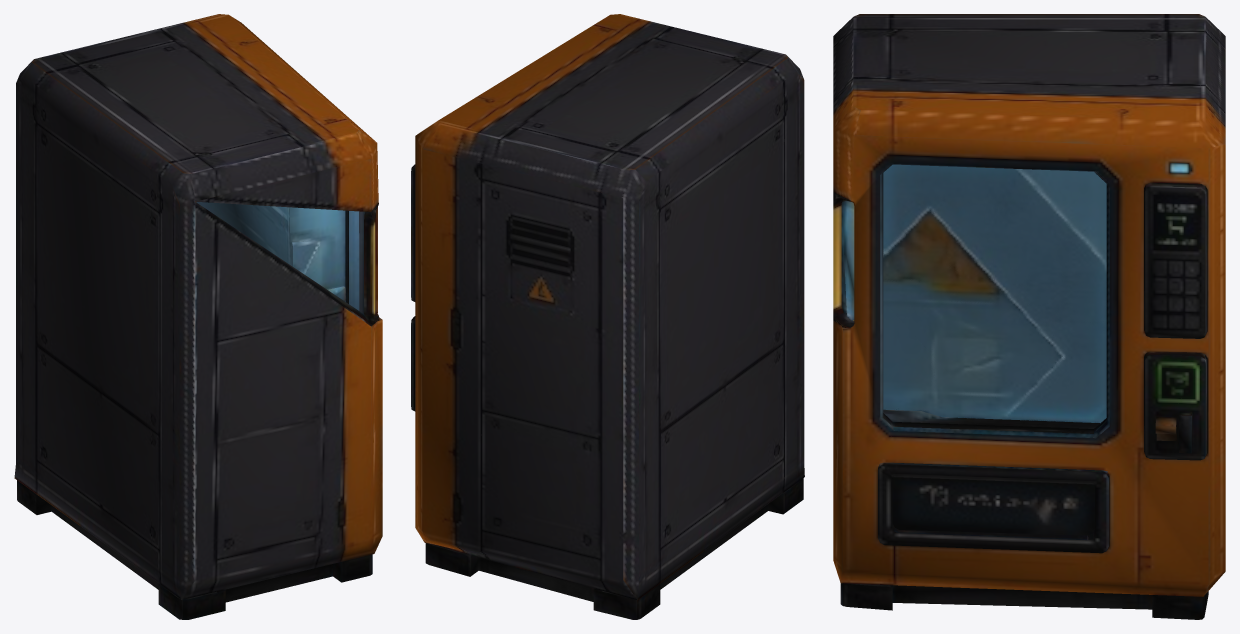
The model's file is vending_machine_01.glb.
3 renders of one model, left to right at view 1: azimuth 30°, elevation 25°; view 2: azimuth 150°, elevation 25°; view 3: azimuth 270°, elevation 25°, orthographic. The views are drawn at different scales.
Visible parts, largest first — view 1: tripo_node_6a14982e-6d8e-435a-b041-0e2ba75b136c; view 2: tripo_node_6a14982e-6d8e-435a-b041-0e2ba75b136c; view 3: tripo_node_6a14982e-6d8e-435a-b041-0e2ba75b136c.
Part boxes in pixels (x1,y1,x2,y2): tripo_node_6a14982e-6d8e-435a-b041-0e2ba75b136c: (14,14,382,619); tripo_node_6a14982e-6d8e-435a-b041-0e2ba75b136c: (411,14,804,619); tripo_node_6a14982e-6d8e-435a-b041-0e2ba75b136c: (833,14,1225,619).
Size of the model in its own units: 0.5723 by 0.998 by 0.7207.
1 material, 1 textured.
